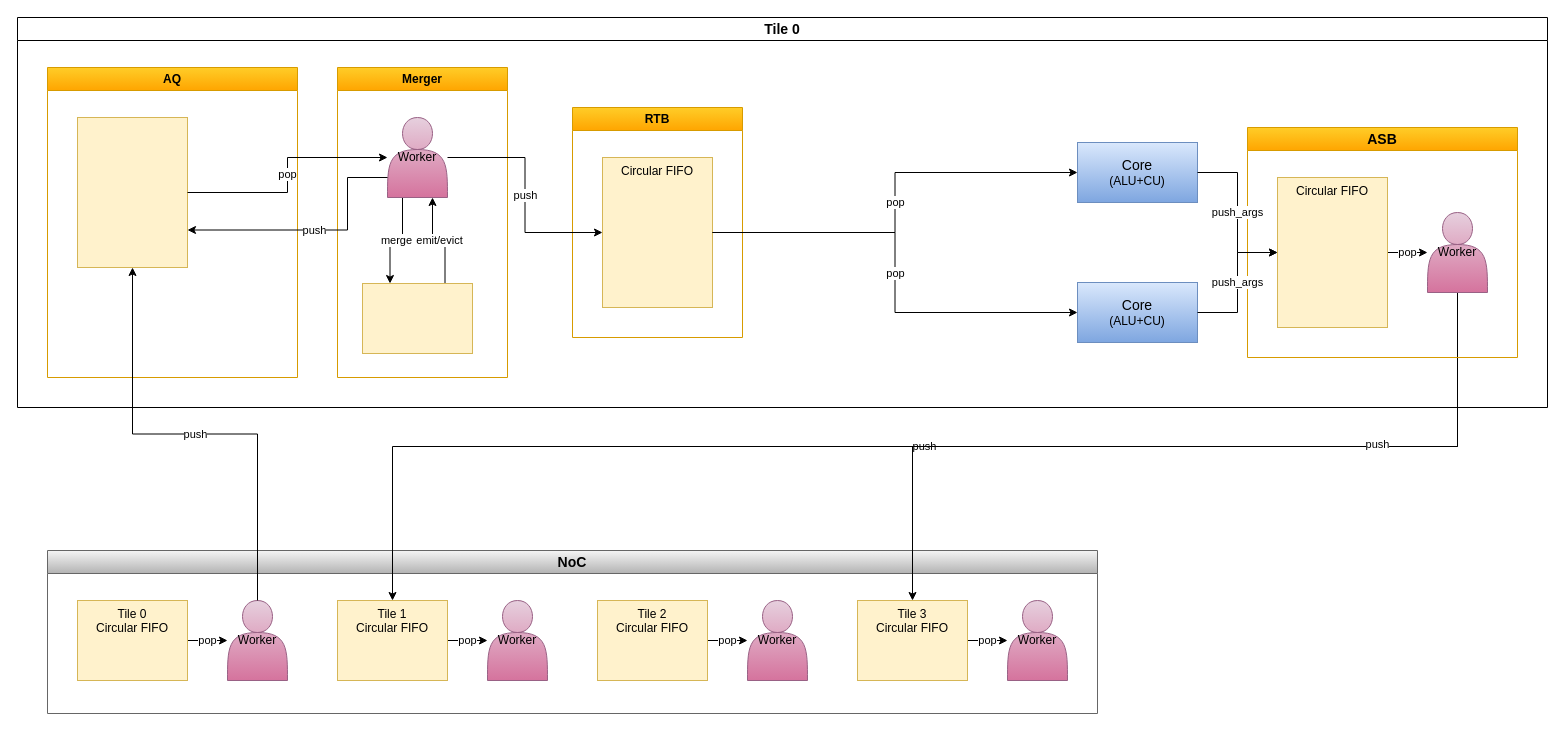
This 1565x731 diagram has some shape labels left out. The shapes that lost their labels are listed below. From the top down, each one's centre as x and y in pixels, then its label:
At (132,192): "Priority FIFO".
At (417,318): "Slot Array".
